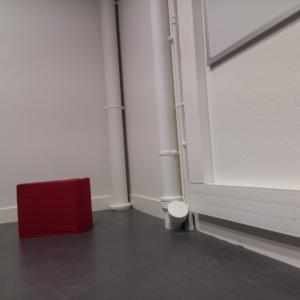medium: (12, 176, 96, 240)
